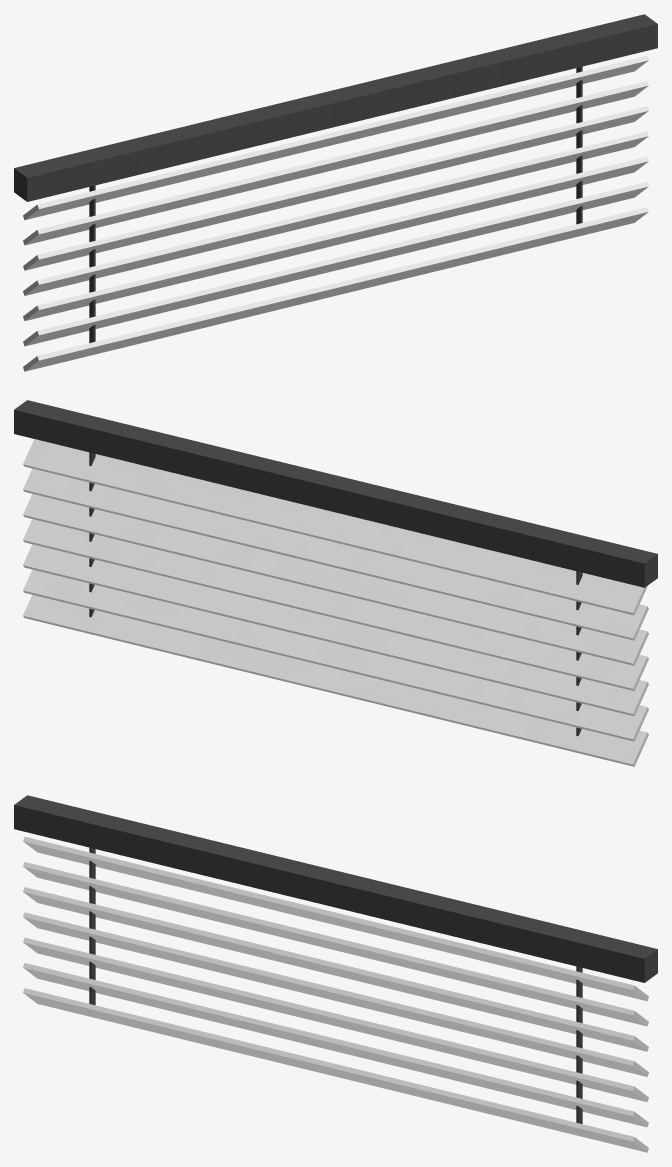
Rendered from Curtain_03_01.fbx.
The picture shows the model from 3 angles, top to bottom: view 1: azimuth 30°, elevation 25°; view 2: azimuth 150°, elevation 25°; view 3: azimuth 330°, elevation 25°; orthographic projection.
Parts seen in each view (by area): view 1: Curtain_03_01; view 2: Curtain_03_01; view 3: Curtain_03_01.
Part boxes in pixels (x1,y1,x2,y2): Curtain_03_01: (14,14,657,371); Curtain_03_01: (14,400,657,766); Curtain_03_01: (14,795,657,1152).
Bounding box in the file's own units: 1.46 × 0.4551 × 0.0643.
